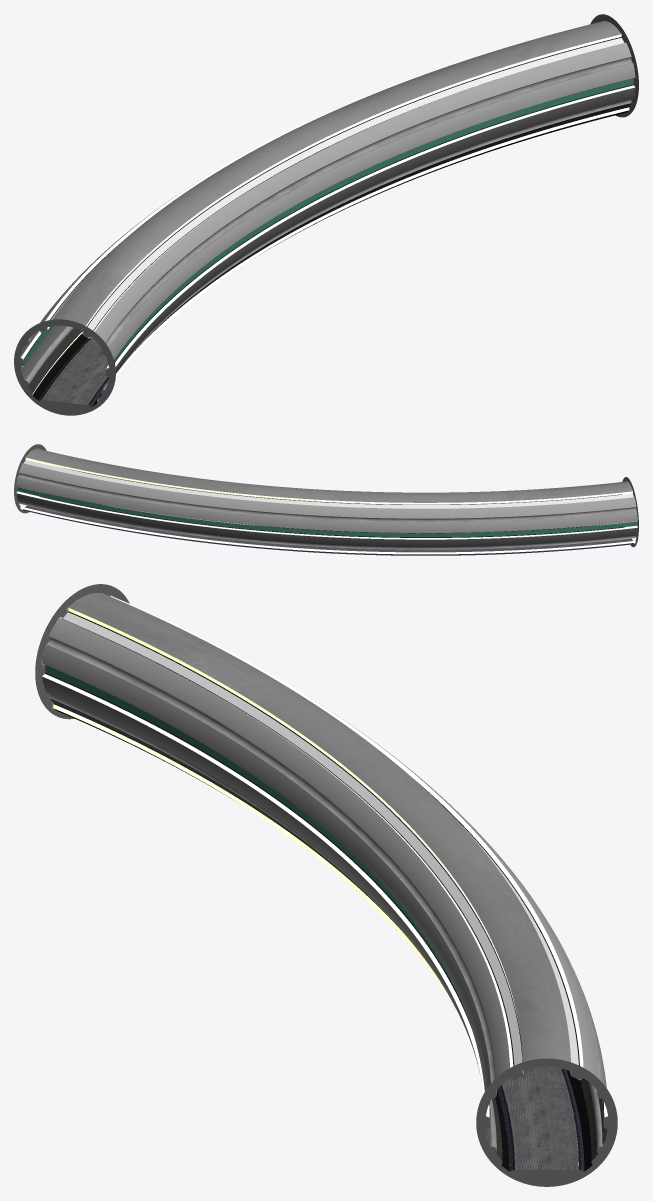
File: hallway_1.fbx
3 renders of one model, top to bottom at view 1: azimuth 30°, elevation 25°; view 2: azimuth 150°, elevation 25°; view 3: azimuth 270°, elevation 25°, orthographic. The views are drawn at different scales.
Visible parts, largest first — view 1: Body.001, Body.003, Body.002, Body.010, Body.013, Body.014, Body, Body.011, Body.007, Body.009, Body.004, Body.012 (+1 smaller); view 2: Body.002, Body.001, Body.003, Body.013, Body.014, Body.010, Body.011, Body, Body.004, Body.005, Body.006, Body.007; view 3: Body.001, Body.003, Body.002, Body.010, Body.013, Body, Body.004, Body.007, Body.014, Body.009, Body.011, Body.012 (+1 smaller).
Part boxes in pixels (x1,y1,x2,y2): Body.001: [53, 21, 621, 330]; Body.003: [30, 42, 631, 342]; Body.002: [21, 63, 635, 359]; Body.010: [21, 34, 635, 398]; Body.013: [25, 57, 632, 390]; Body.014: [21, 87, 635, 388]; Body: [51, 37, 624, 330]; Body.011: [24, 78, 633, 365]; Body.007: [14, 14, 638, 415]; Body.009: [24, 37, 633, 392]; Body.004: [42, 189, 337, 404]; Body.012: [28, 103, 631, 398]; Body.002: [16, 466, 637, 532]; Body.001: [26, 448, 632, 502]; Body.003: [19, 463, 636, 518]; Body.013: [18, 472, 636, 549]; Body.014: [16, 493, 637, 546]; Body.010: [16, 457, 637, 554]; Body.011: [17, 487, 637, 537]; Body: [24, 460, 633, 508]; Body.004: [25, 496, 632, 552]; Body.005: [22, 509, 634, 555]; Body.006: [48, 494, 624, 537]; Body.007: [14, 444, 638, 547]; Body.001: [68, 593, 570, 1062]; Body.003: [49, 618, 597, 1088]; Body.002: [42, 644, 606, 1091]; Body.010: [42, 596, 607, 1150]; Body.013: [46, 636, 602, 1149]; Body: [62, 612, 578, 1065]; Body.004: [125, 710, 578, 1169]; Body.007: [35, 584, 617, 1186]; Body.014: [42, 656, 607, 1145]; Body.009: [45, 611, 604, 1160]; Body.011: [45, 665, 603, 1117]; Body.012: [49, 698, 597, 1160].
Bounding box in the file's own units: 100 × 200 × 24.31.
Materials: 1 (1 with a texture image).
